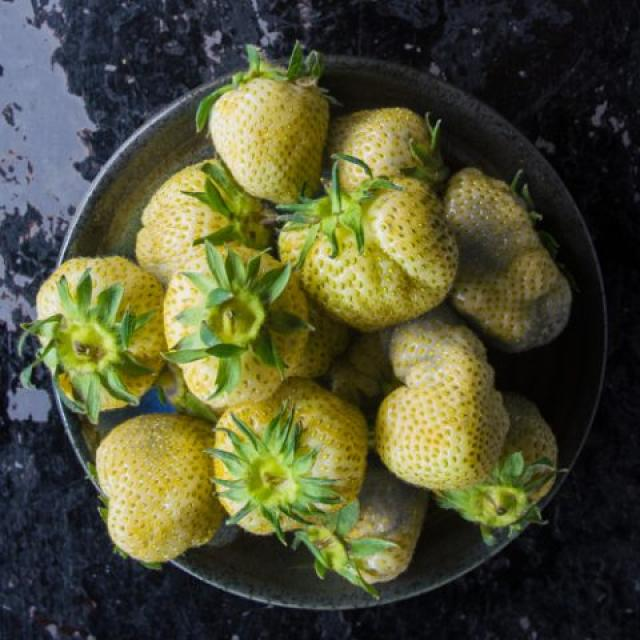immature: (278, 180, 457, 330), (442, 168, 574, 348), (214, 382, 368, 536), (163, 252, 310, 408), (34, 254, 162, 411), (97, 412, 225, 562), (376, 353, 509, 490), (137, 158, 269, 284), (210, 73, 329, 204), (317, 486, 425, 585), (330, 108, 445, 198)
